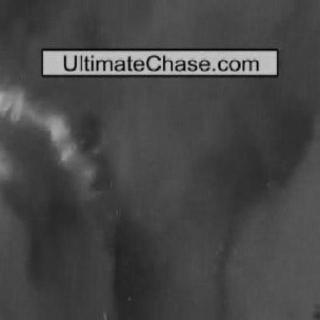Fire: (0, 69, 119, 239)
Smoke: (126, 88, 306, 310)
